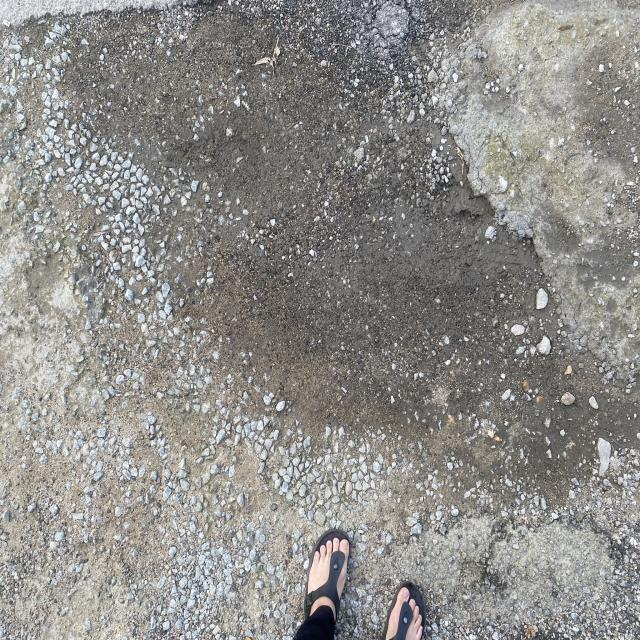Pothole: (413, 109, 549, 274)
